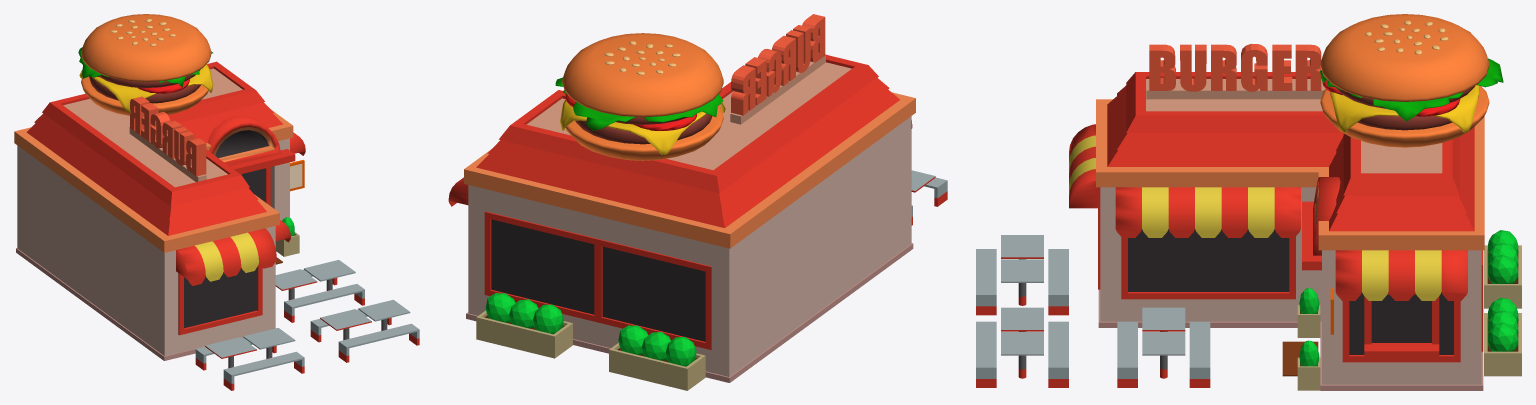
File: shop_b_high.glb
3 renders of one model, left to right at view 1: azimuth 30°, elevation 25°; view 2: azimuth 150°, elevation 25°; view 3: azimuth 270°, elevation 25°, orthographic. The views are drawn at different scales.
Parts seen in each view (by area): view 1: shop_b_high; view 2: shop_b_high; view 3: shop_b_high.
Part boxes in pixels (<box>): shop_b_high: <box>14,14,419,390</box>; shop_b_high: <box>448,14,947,390</box>; shop_b_high: <box>976,14,1521,390</box>.
Bounding box in the file's own units: 8.93 × 7.96 × 13.94.
1 material, 1 textured.
